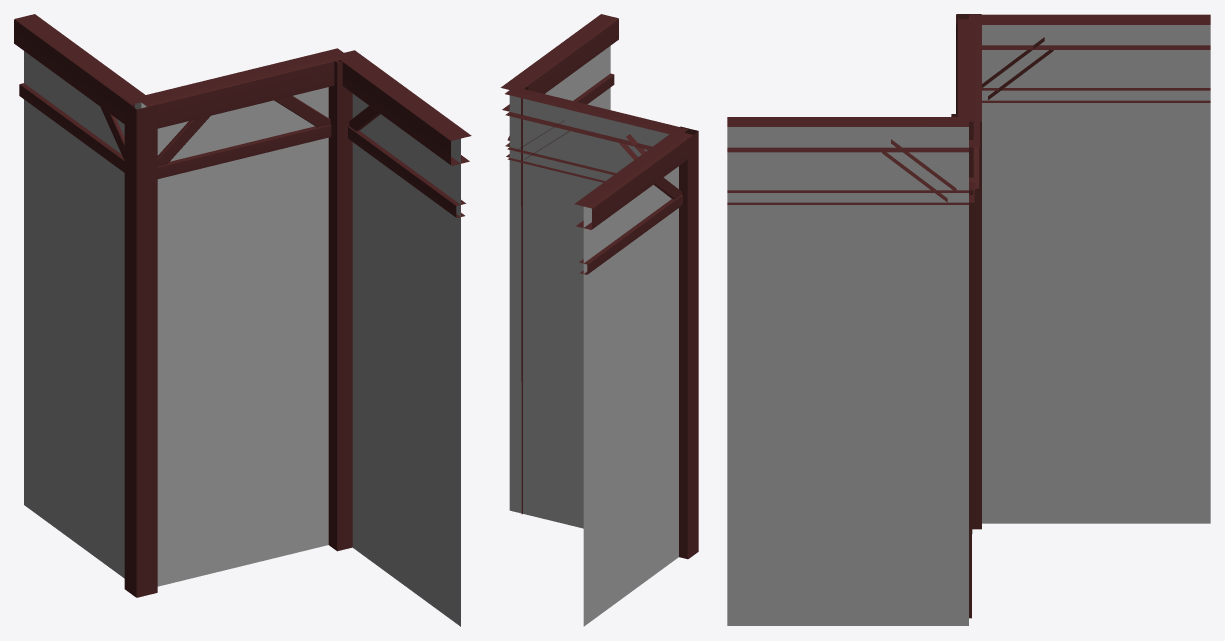
File: gg_wall_z.fbx
3 views of the same model, side by side, from view 1: azimuth 30°, elevation 25°; view 2: azimuth 150°, elevation 25°; view 3: azimuth 270°, elevation 25° (orthographic). The views are drawn at different scales.
Visible parts, largest first — view 1: gg_wall; view 2: gg_wall; view 3: gg_wall.
Boxes of the visible parts, x1=… form: gg_wall: x1=14, y1=14, x2=471, y2=626; gg_wall: x1=500, y1=14, x2=698, y2=626; gg_wall: x1=727, y1=14, x2=1210, y2=625.
Size of the model in its own units: 111 by 230 by 200.
